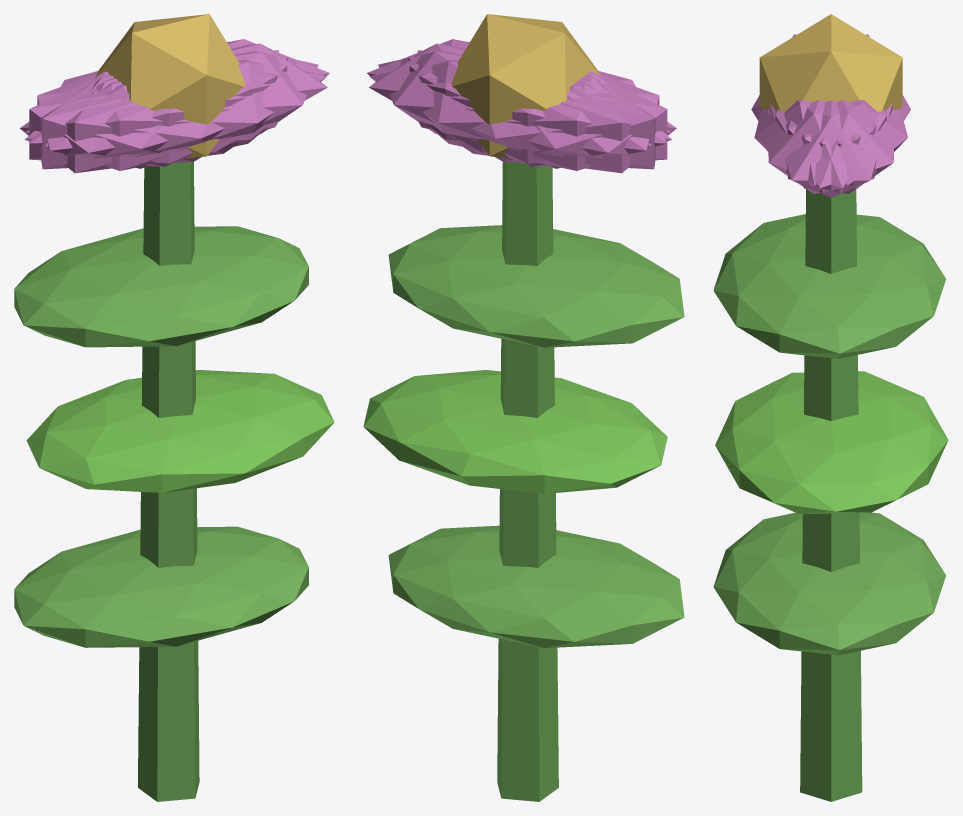
File: diospyros-ferrea.glb
3 renders of one model, left to right at view 1: azimuth 30°, elevation 25°; view 2: azimuth 150°, elevation 25°; view 3: azimuth 270°, elevation 25°, orthographic.
Visible parts, largest first — view 1: leaf2, leaf1, leaf0, stem, center, petal1, petal6, petal2, petal5, petal7, petal0, petal4 (+2 smaller); view 2: leaf1, leaf2, leaf0, stem, center, petal8, petal3, petal7, petal4, petal2, petal0, petal5 (+2 smaller); view 3: leaf1, leaf2, leaf0, stem, center, petal0, petal4, petal5, petal1, petal8.
Boxes of the visible parts, x1,y1,x2,y2 form: leaf2: [14, 226, 308, 347]; leaf1: [26, 370, 334, 492]; leaf0: [14, 526, 308, 647]; stem: [138, 161, 199, 801]; center: [96, 14, 245, 158]; petal1: [24, 60, 326, 170]; petal6: [19, 73, 238, 173]; petal2: [41, 50, 279, 169]; petal5: [45, 51, 318, 163]; petal7: [29, 56, 287, 166]; petal0: [96, 43, 327, 152]; petal4: [26, 39, 329, 143]; leaf1: [363, 370, 667, 493]; leaf2: [388, 225, 684, 347]; leaf0: [388, 525, 684, 648]; stem: [497, 161, 558, 801]; center: [451, 14, 600, 158]; petal8: [369, 60, 671, 170]; petal3: [458, 73, 676, 173]; petal7: [417, 50, 655, 169]; petal4: [378, 51, 651, 163]; petal2: [408, 56, 667, 166]; petal0: [369, 43, 600, 152]; petal5: [367, 39, 670, 143]; leaf1: [715, 371, 948, 513]; leaf2: [713, 214, 945, 358]; leaf0: [713, 512, 945, 655]; stem: [800, 189, 862, 801]; center: [759, 14, 902, 111]; petal0: [770, 100, 892, 197]; petal4: [775, 100, 894, 194]; petal5: [768, 100, 886, 194]; petal1: [754, 100, 876, 185]; petal8: [786, 100, 907, 185].
Bounding box in the file's own units: 0.1495 × 0.3568 × 0.1006.
